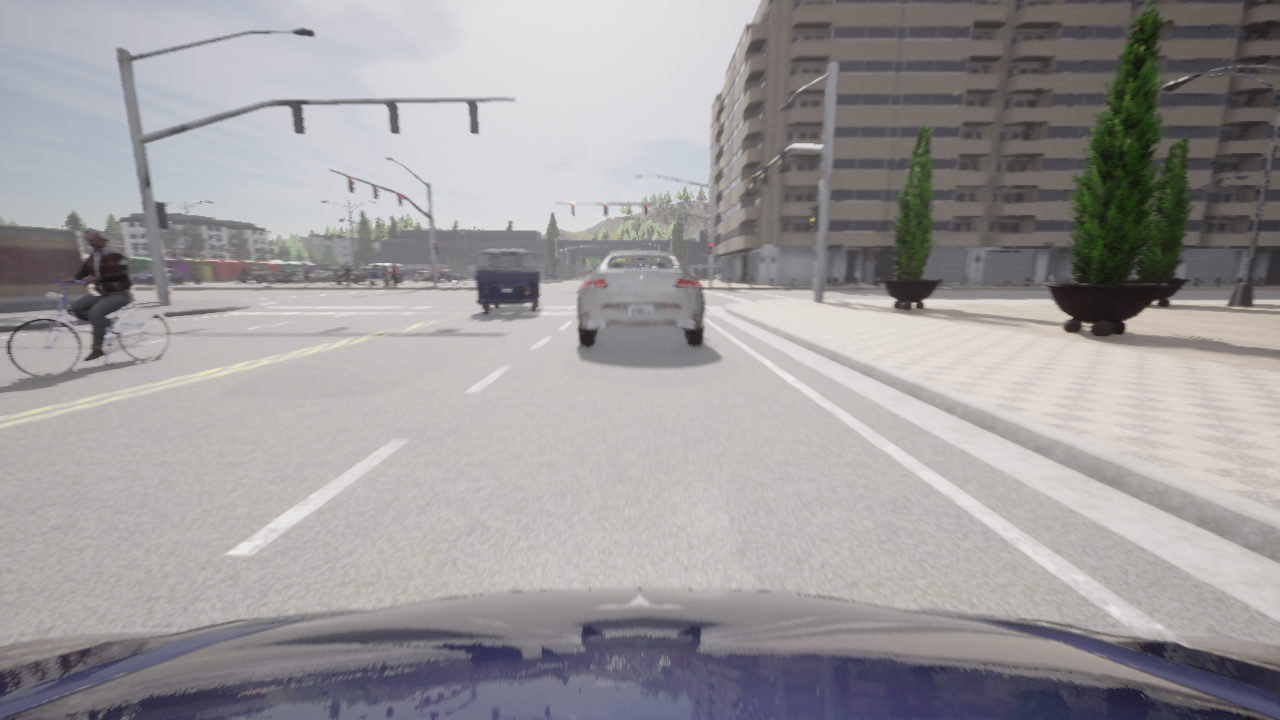cyclist: (0, 588, 1279, 719), (6, 280, 169, 377), (577, 250, 704, 345), (476, 248, 542, 312), (130, 268, 184, 284), (366, 263, 404, 284), (333, 267, 368, 284), (237, 267, 275, 282), (294, 270, 330, 282), (266, 270, 297, 282), (437, 269, 459, 281), (413, 271, 432, 280), (326, 267, 337, 281), (290, 268, 303, 273), (455, 272, 464, 279), (631, 247, 639, 249), (365, 267, 366, 268)
pedestrian: (302, 263, 313, 286), (391, 263, 398, 287), (343, 263, 350, 286), (383, 271, 388, 287), (388, 273, 392, 287)
